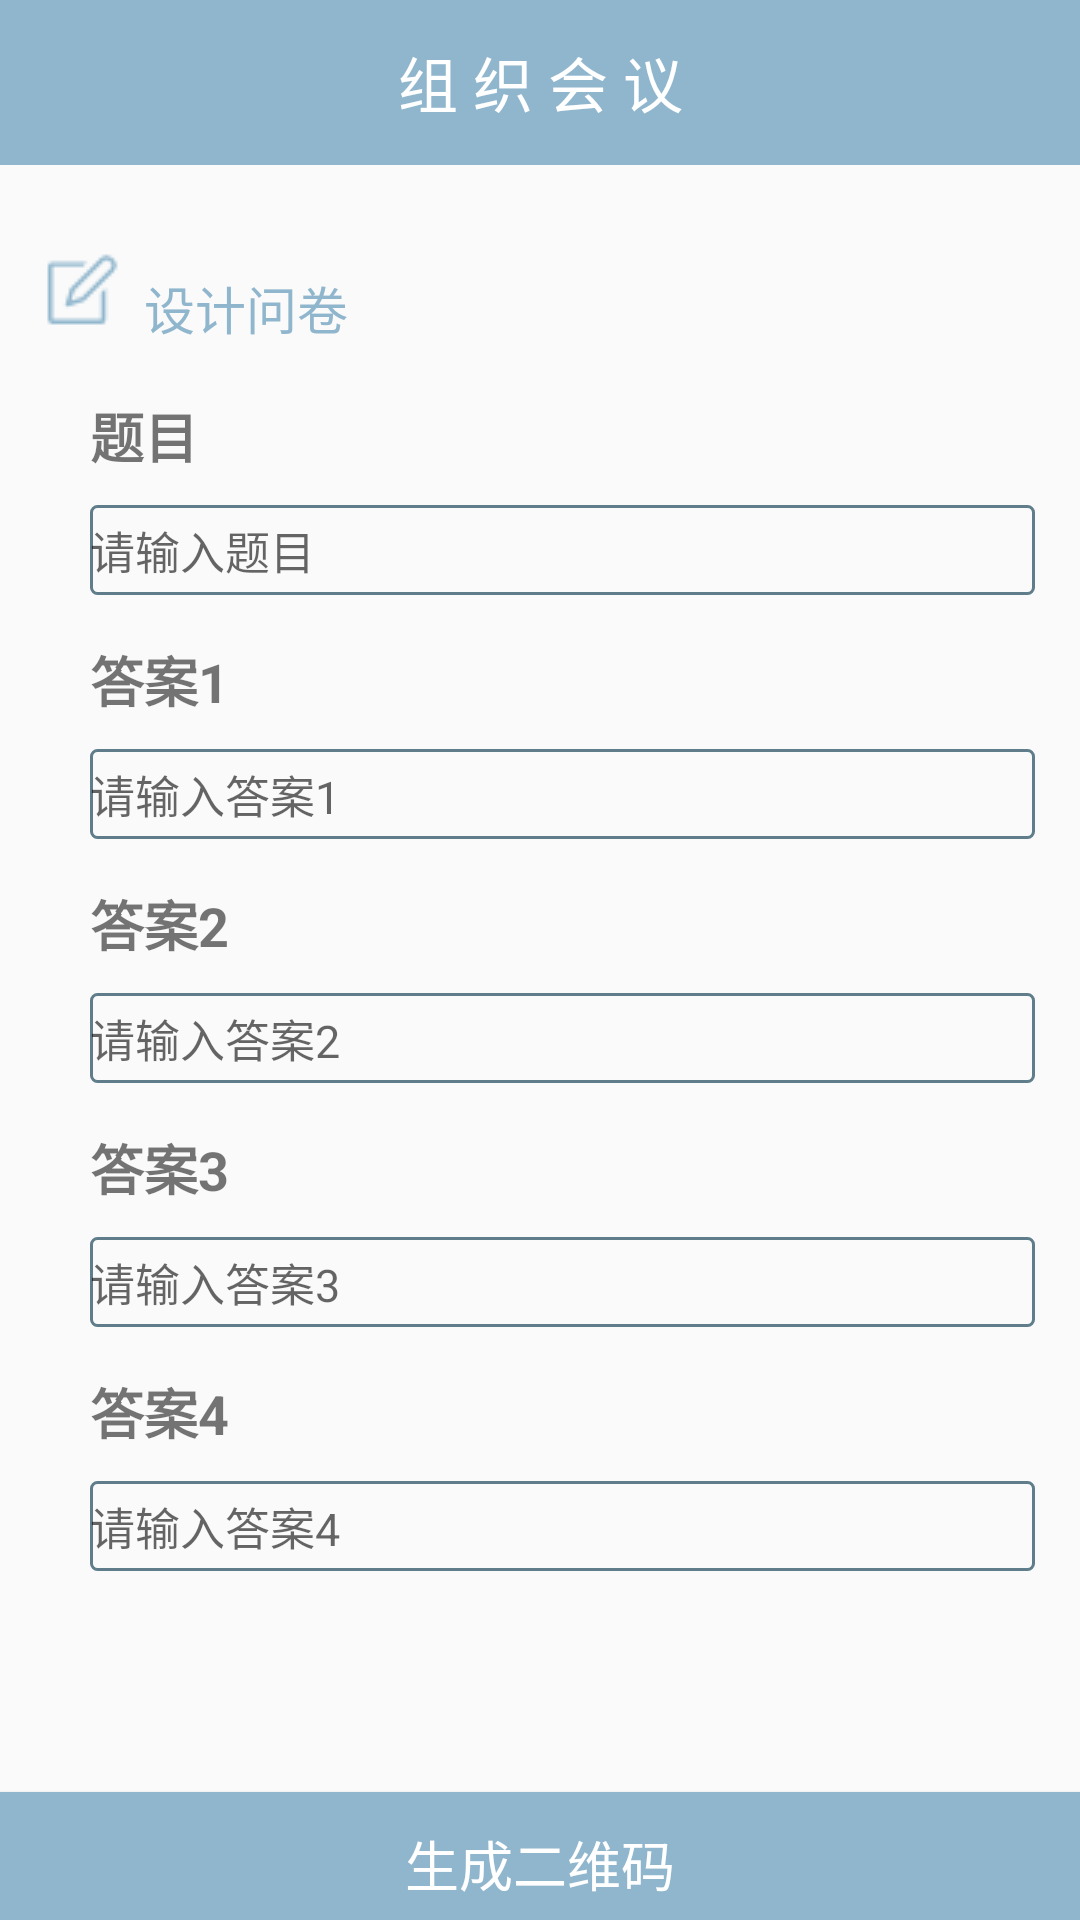

Locate icon controls on the screen. Image size 1080*1920, boxes as (x1, y1, x2, y2).
write: (47, 254, 118, 325)
